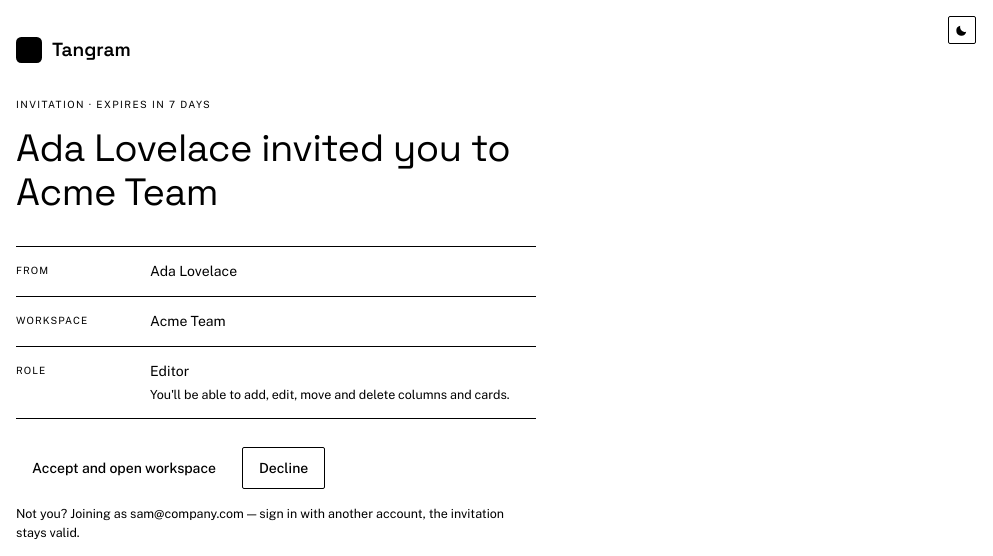
Test: InviteView — signed in, opened the link › declines without joining, and says so
This screenshot has width=993, height=556.
Click the button "Decline" at [284, 468], box [242,447,325,489]
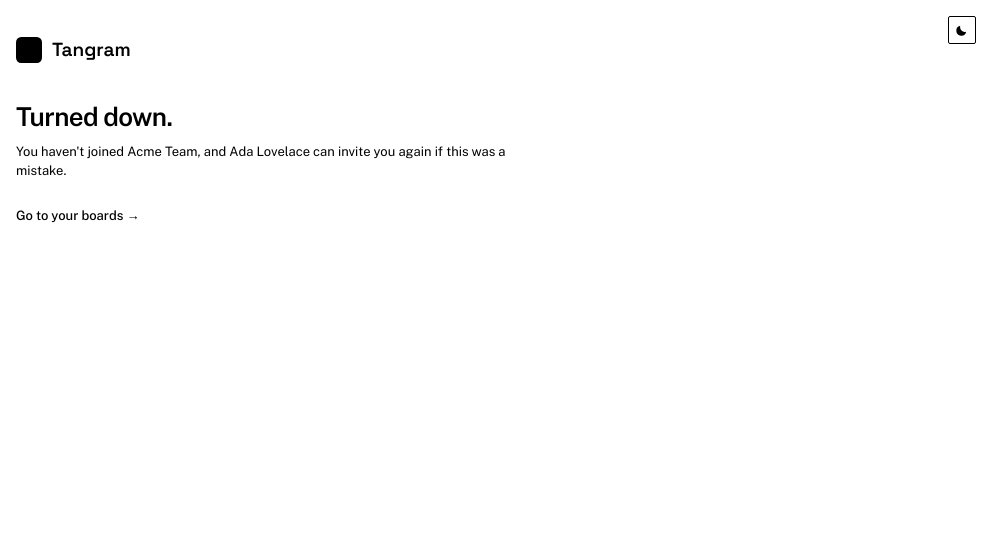
expect the heading "Turned down." is shown: met, box [16,100,172,132]
expect the text "Ada Lovelace can invite you again" is shown: met, box [16,142,536,180]
